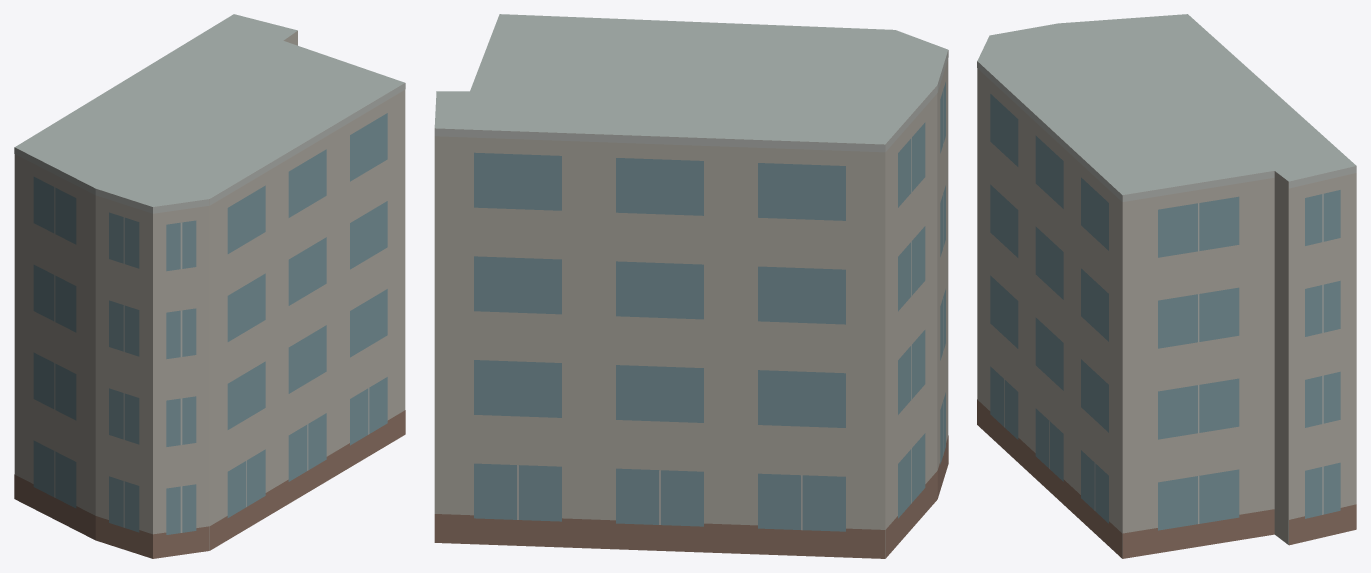
The model's file is survey-upis-32672141.glb.
3 renders of one model, left to right at view 1: azimuth 30°, elevation 25°; view 2: azimuth 150°, elevation 25°; view 3: azimuth 270°, elevation 25°, orthographic. The views are drawn at different scales.
Parts seen in each view (by area): view 1: survey-upis-32672141.tmp; view 2: survey-upis-32672141.tmp; view 3: survey-upis-32672141.tmp.
Part boxes in pixels (x1=…): survey-upis-32672141.tmp: x1=14, y1=14, x2=405, y2=558; survey-upis-32672141.tmp: x1=434, y1=14, x2=948, y2=558; survey-upis-32672141.tmp: x1=977, y1=14, x2=1356, y2=558.
Size of the model in its own units: 13.69 by 12.8 by 12.11.
